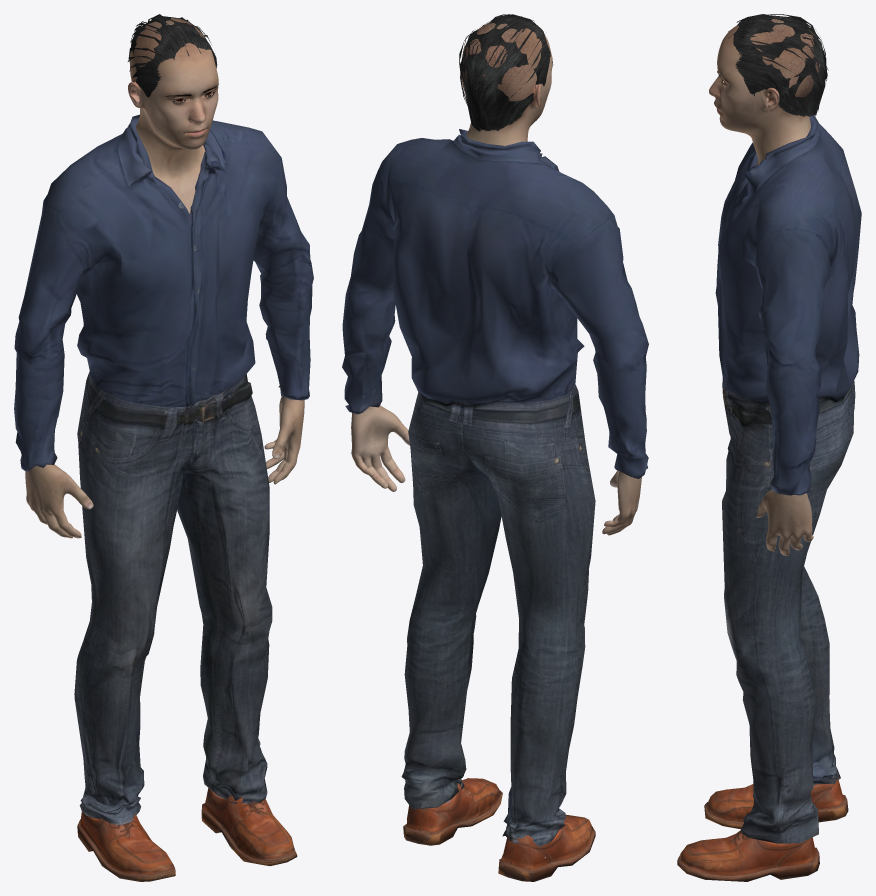
The model's file is avery.glb.
3 renders of one model, left to right at view 1: azimuth 30°, elevation 25°; view 2: azimuth 150°, elevation 25°; view 3: azimuth 270°, elevation 25°, orthographic.
Bounding box in the file's own units: 0.6583 × 1.76 × 0.3584.
Materials: 9 (9 with a texture image).
